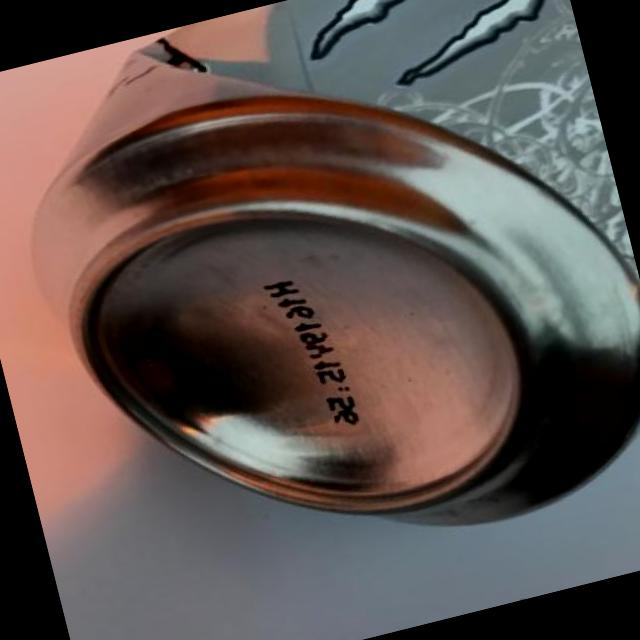metal: (35, 54, 639, 524)
